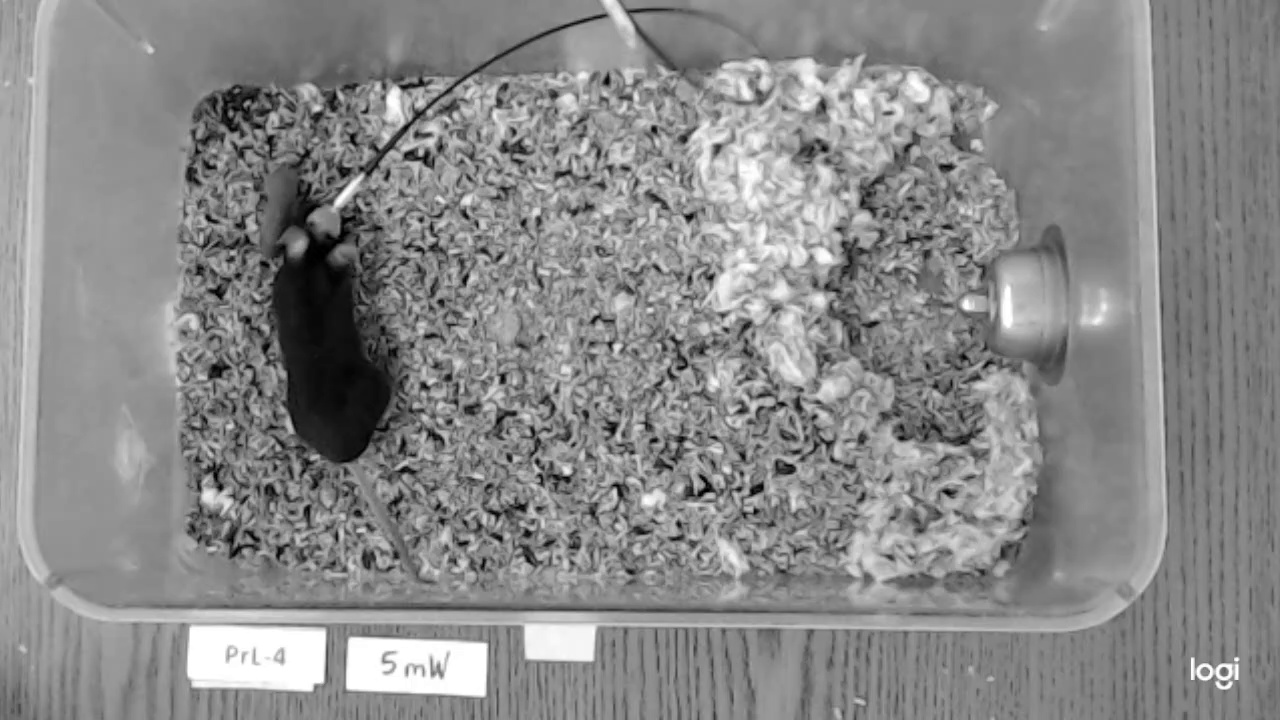parent-mice: (272, 199, 392, 462)
